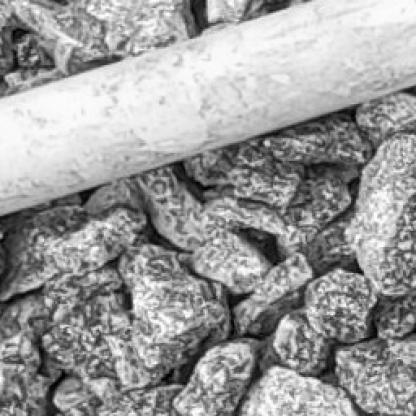PVC: (0, 2, 414, 221)
